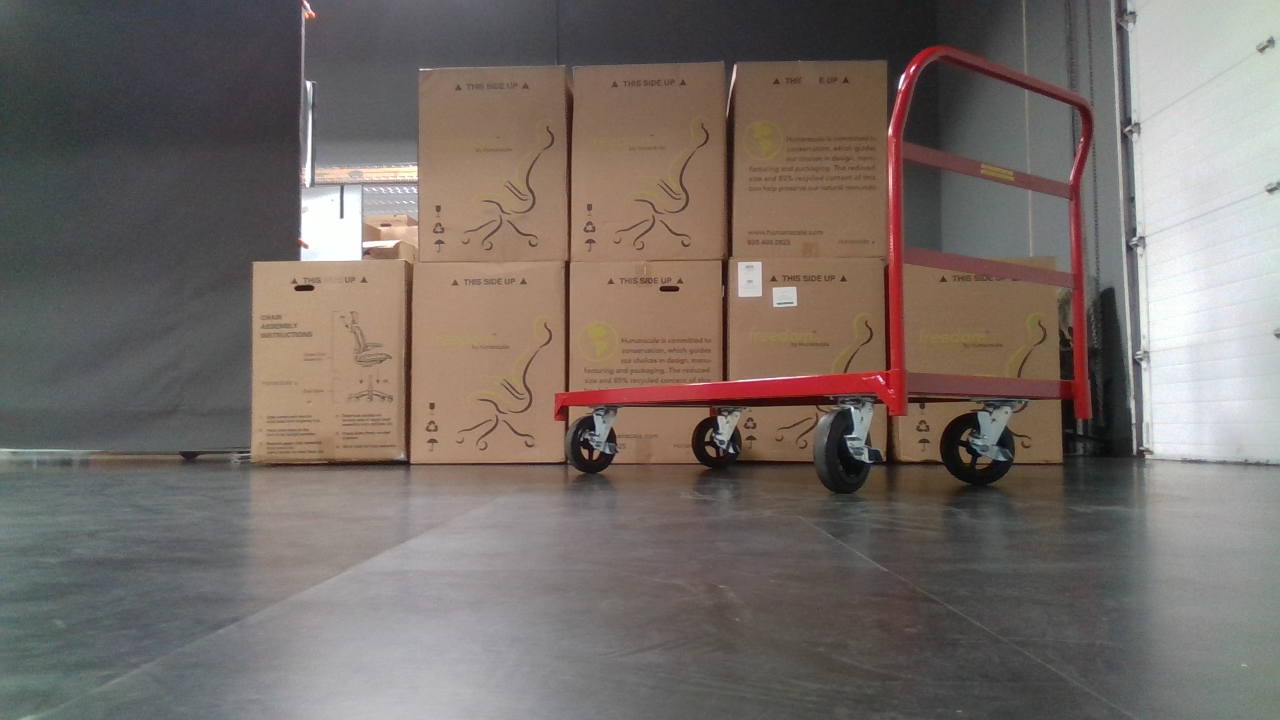Dolly: (550, 40, 1107, 510)
Wheel: (810, 407, 887, 496), (938, 407, 1018, 487), (563, 412, 622, 474), (690, 414, 744, 470)
